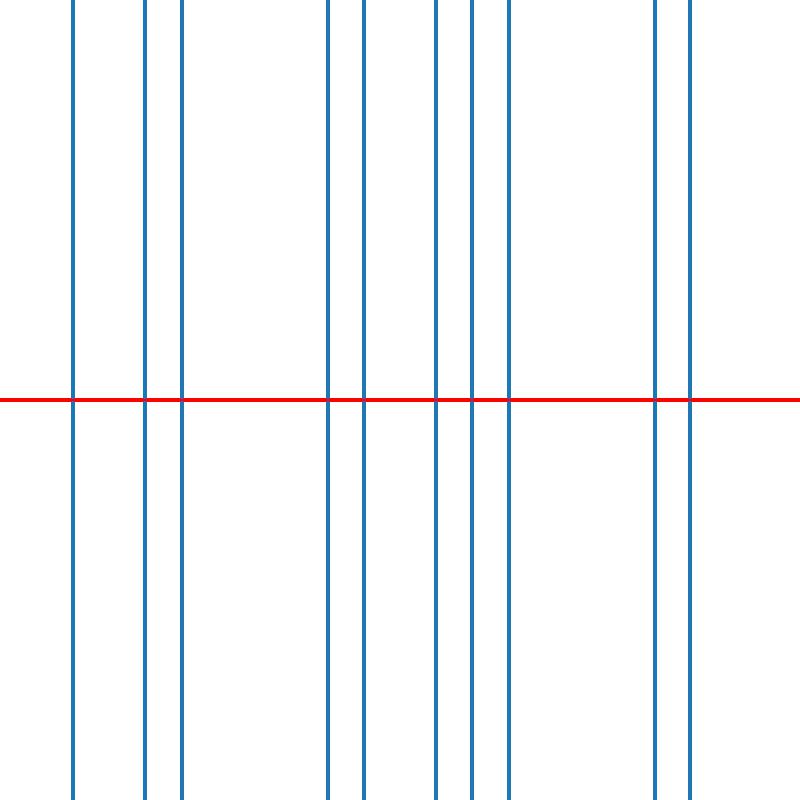root: (650, 396, 658, 404), (432, 396, 440, 404), (141, 396, 149, 404), (360, 396, 367, 404), (469, 396, 476, 404), (687, 396, 694, 404), (178, 396, 185, 404), (505, 396, 512, 404), (69, 396, 76, 404), (323, 396, 330, 404)
